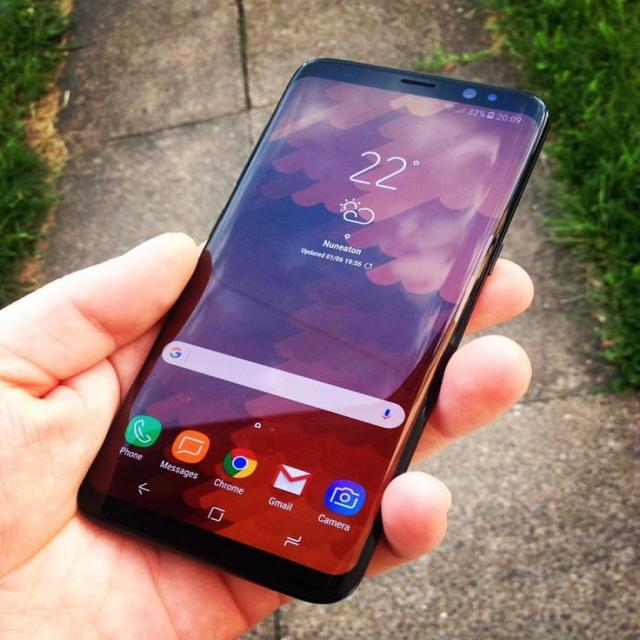phone: (44, 46, 571, 629)
